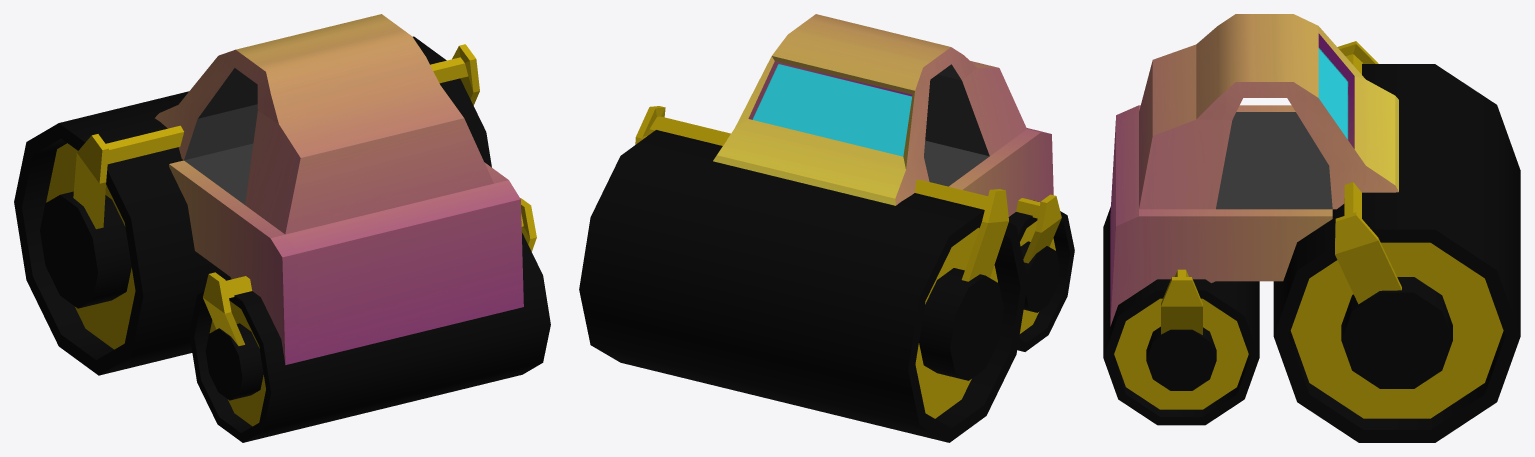
Rendered from Auto.FBX.
3 renders of one model, left to right at view 1: azimuth 30°, elevation 25°; view 2: azimuth 150°, elevation 25°; view 3: azimuth 270°, elevation 25°, orthographic. The views are drawn at different scales.
Visible parts, largest first — view 1: Plane001, Cylinder023, Box087; view 2: Cylinder023, Plane001, Box087; view 3: Cylinder023, Plane001, Box087.
Part boxes in pixels (x1,y1,x2,y2): Plane001: (155,14,523,364); Cylinder023: (14,36,550,442); Box087: (73,44,536,345); Cylinder023: (579,130,1074,442); Plane001: (713,14,1053,216); Box087: (635,106,1061,281); Cylinder023: (1103,64,1520,442); Plane001: (1110,14,1398,326); Box087: (1161,41,1401,334).
Bounding box in the file's own units: 0.9884 × 0.8093 × 0.9835.
